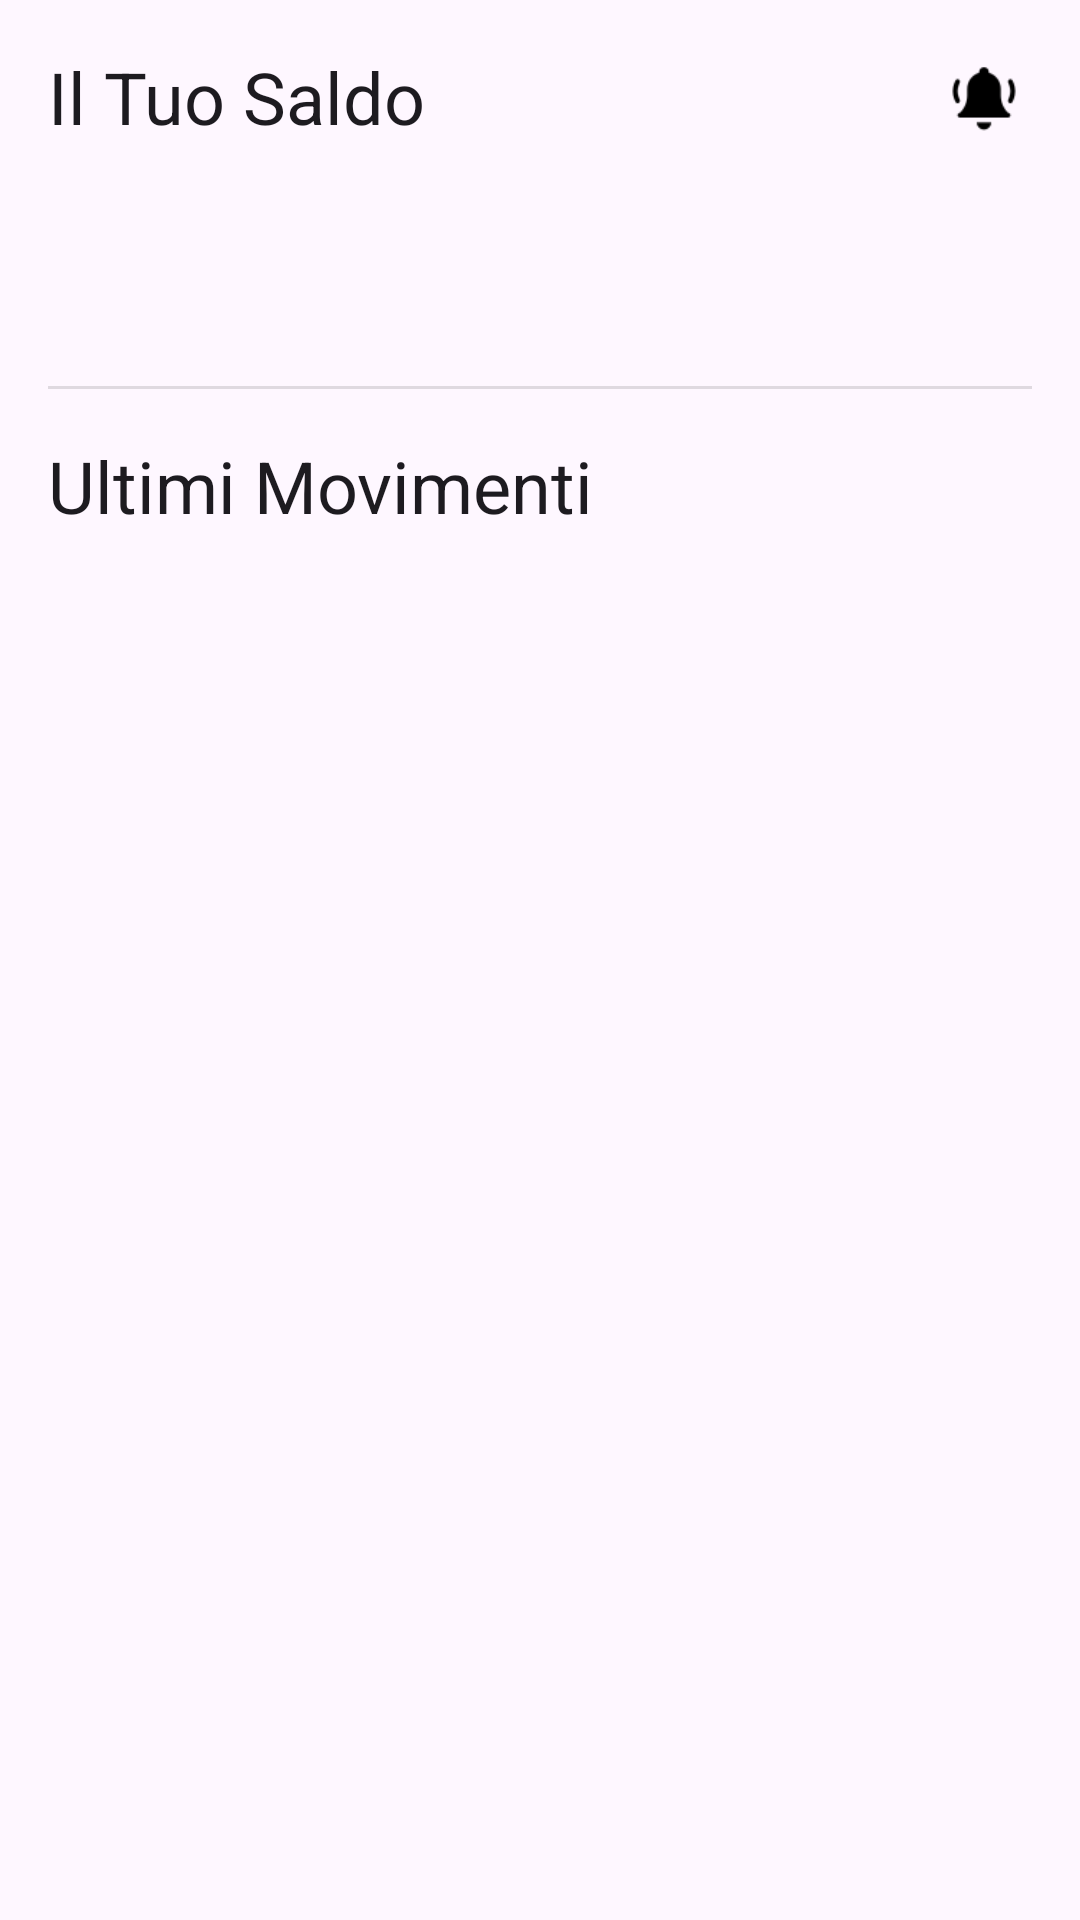

Locate icon controls on the screen. Image size 1080*1920, boxes as (x1=x1, y1=y1, x2=x2, y2=y2).
Notifiche: (x1=952, y1=67, x2=1016, y2=131)
